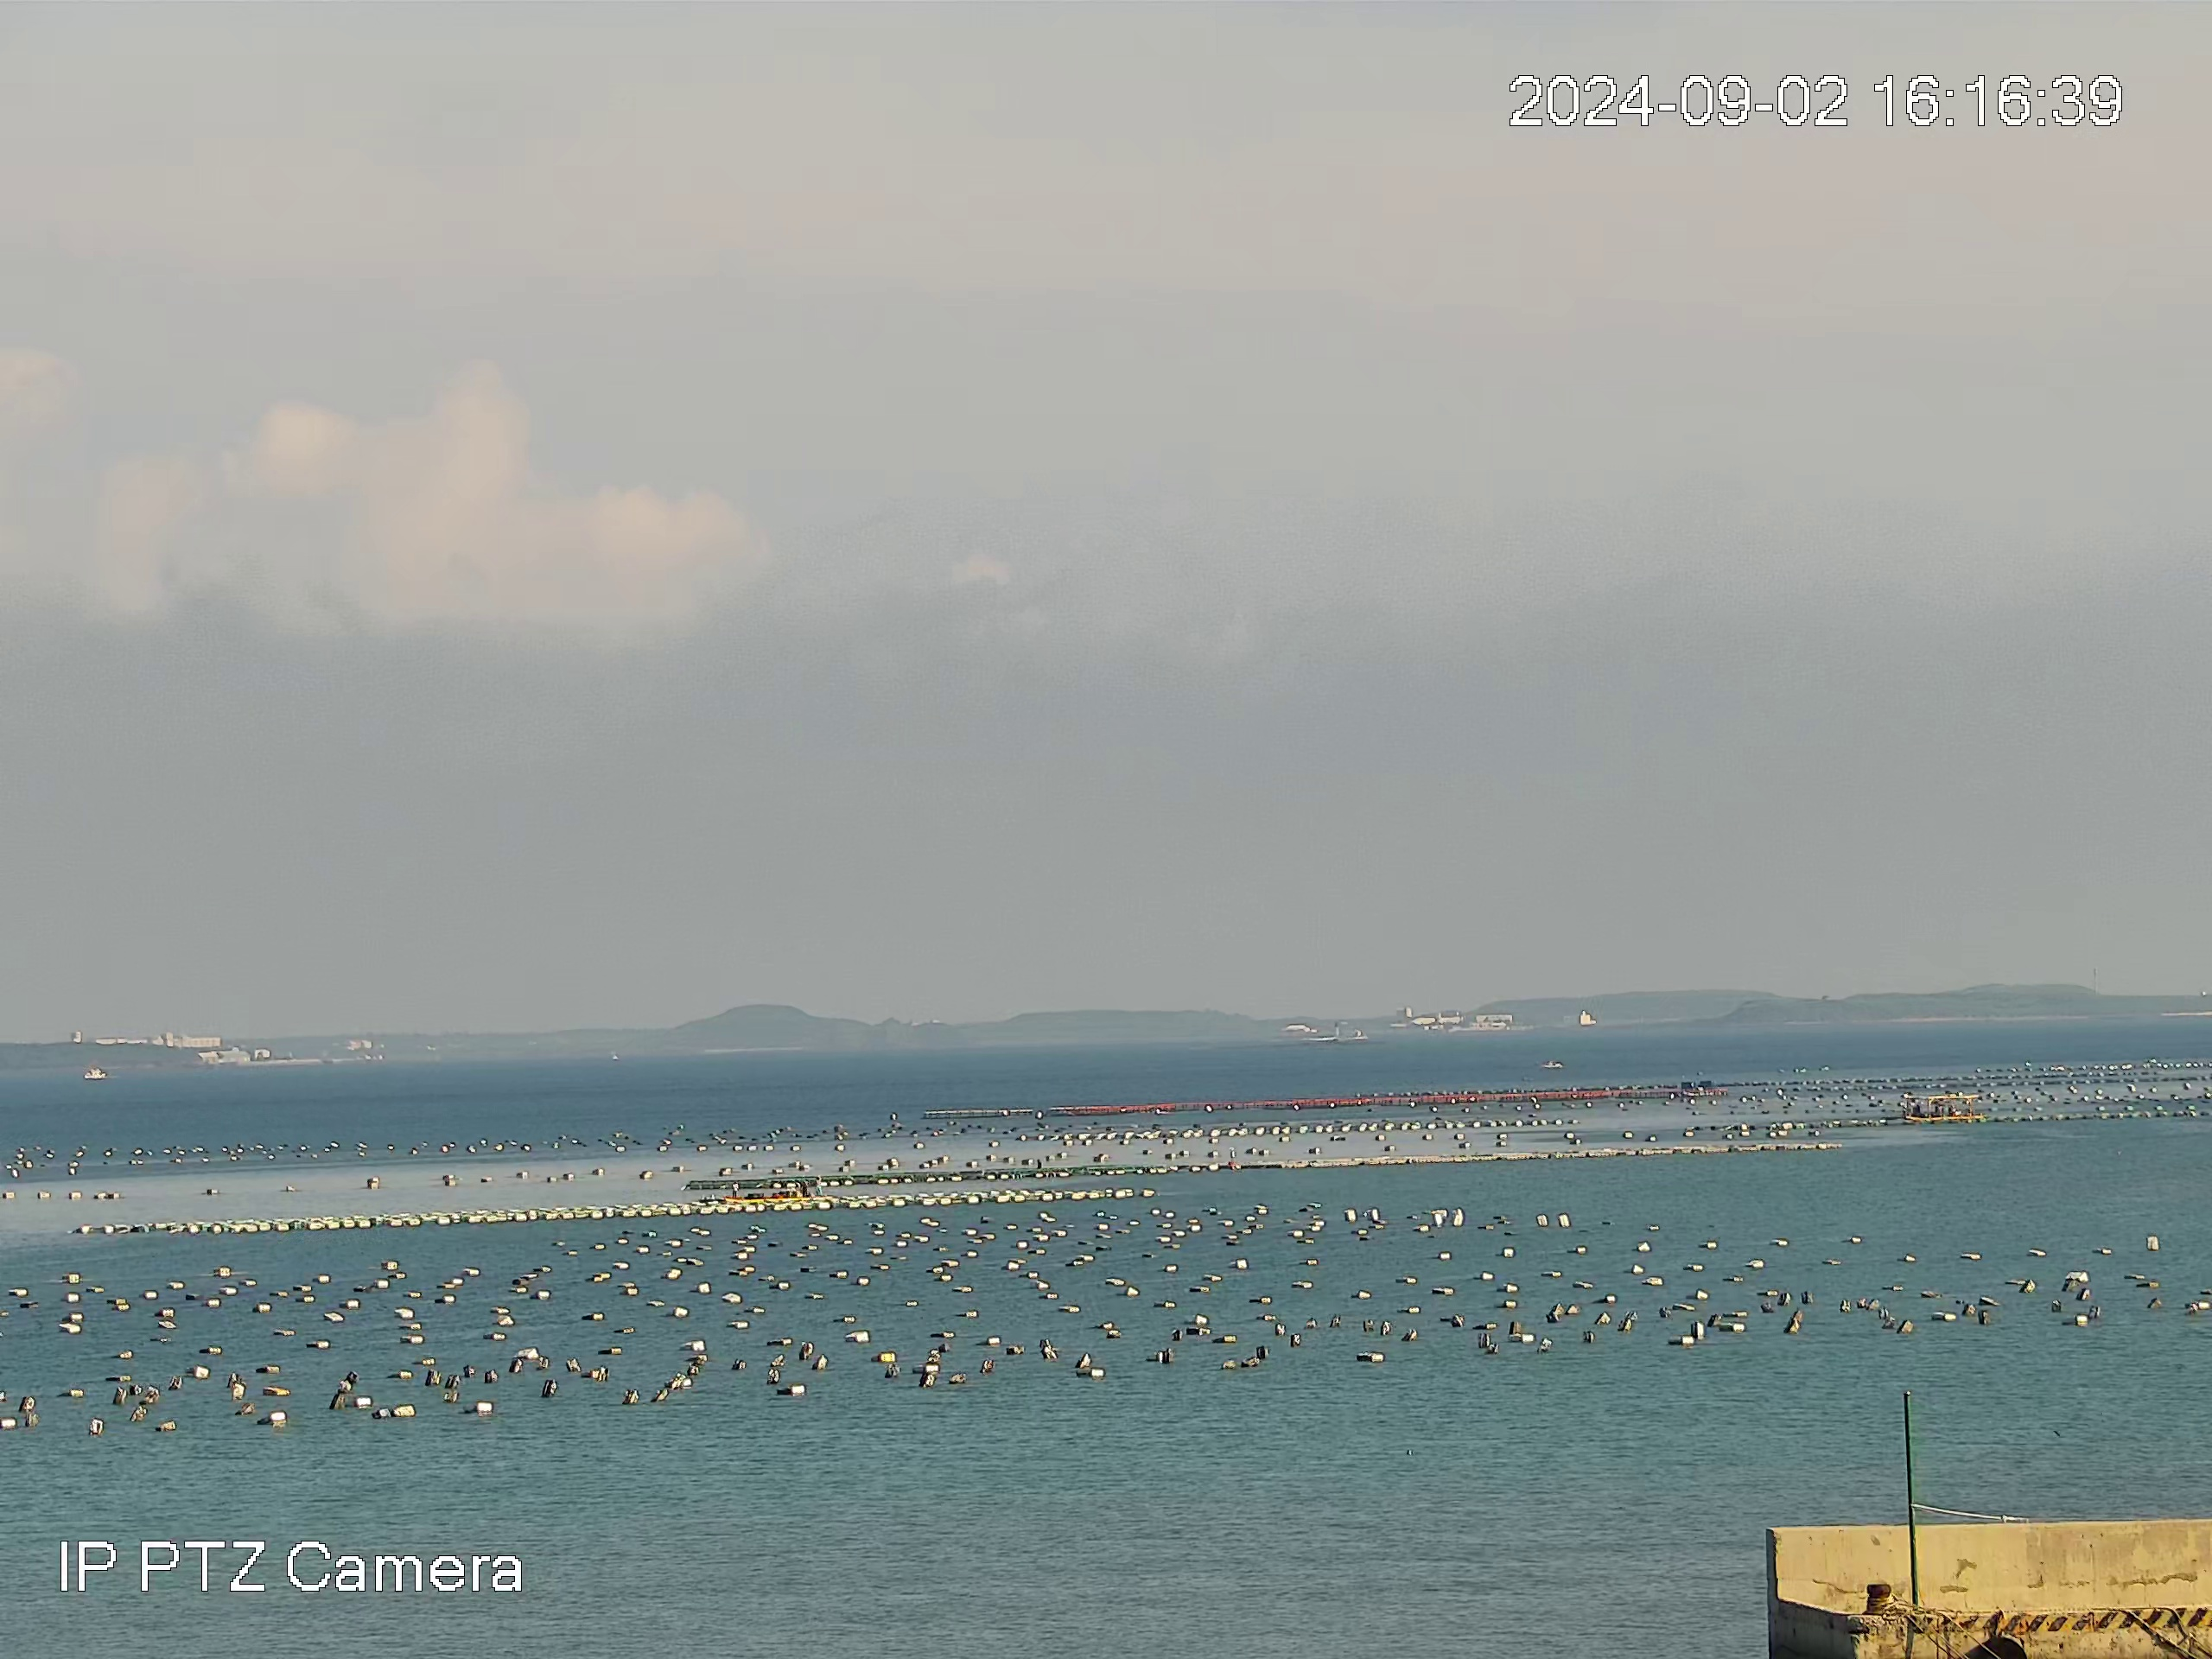boat: (721, 1175, 833, 1204), (1900, 1091, 1984, 1126)
